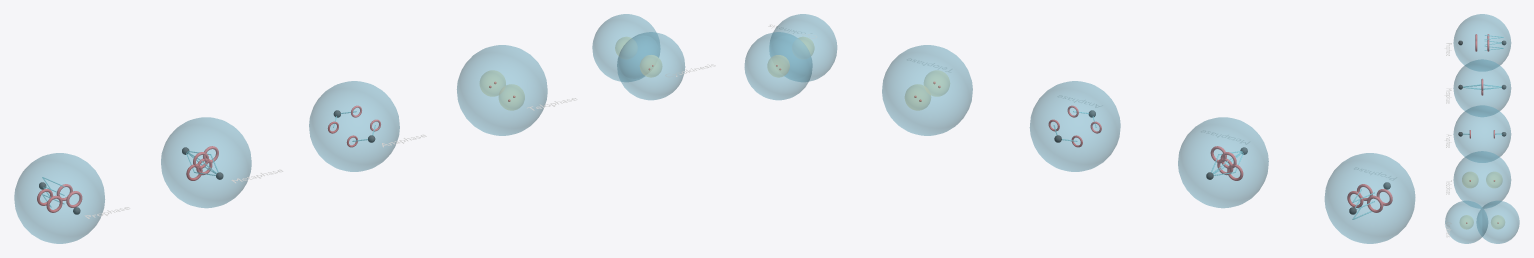
File: mitosis_phases.glb
3 views of the same model, side by side, from view 1: azimuth 30°, elevation 25°; view 2: azimuth 150°, elevation 25°; view 3: azimuth 270°, elevation 25° (orthographic). The views are drawn at different scales.
Visible parts, largest first — view 1: CellMembrane.002, CellMembrane, CellMembrane.003, CellMembrane.001, CellMembrane.005, CellMembrane.004, Nucleus.001, Nucleus, Nucleus.003; view 2: CellMembrane.001, CellMembrane.003, CellMembrane.002, CellMembrane, CellMembrane.004, CellMembrane.005, Nucleus, Nucleus.001, Nucleus.002; view 3: CellMembrane.001, CellMembrane.002, CellMembrane, CellMembrane.003, CellMembrane.004, CellMembrane.005, Nucleus, Nucleus.001, Nucleus.003, Nucleus.002, Text.001, Text.004 (+3 smaller).
Boxes of the visible parts, x1,y1,x2,y2 form: CellMembrane.002: (309, 81, 399, 171); CellMembrane: (14, 153, 104, 243); CellMembrane.003: (457, 45, 547, 135); CellMembrane.001: (161, 117, 251, 208); CellMembrane.005: (617, 32, 685, 100); CellMembrane.004: (592, 14, 659, 81); Nucleus.001: (499, 84, 524, 110); Nucleus: (480, 70, 505, 96); Nucleus.003: (640, 55, 661, 77); CellMembrane.001: (1178, 117, 1268, 208); CellMembrane.003: (882, 45, 972, 135); CellMembrane.002: (1029, 81, 1120, 171); CellMembrane: (1324, 153, 1415, 243); CellMembrane.004: (744, 32, 812, 100); CellMembrane.005: (769, 14, 837, 81); Nucleus: (905, 84, 930, 110); Nucleus.001: (924, 70, 949, 96); Nucleus.002: (767, 55, 789, 77); CellMembrane.001: (1453, 59, 1511, 116); CellMembrane.002: (1453, 105, 1511, 162); CellMembrane: (1453, 14, 1511, 71); CellMembrane.003: (1453, 151, 1511, 208); CellMembrane.004: (1476, 200, 1519, 243); CellMembrane.005: (1445, 200, 1487, 243); Nucleus: (1486, 172, 1502, 187); Nucleus.001: (1462, 172, 1478, 187); Nucleus.003: (1460, 215, 1473, 229); Nucleus.002: (1491, 215, 1504, 228); Text.001: (1444, 88, 1451, 103); Text.004: (1444, 222, 1451, 237).
Bounding box in the file's own units: 20.29 × 2.4 × 3.13.
